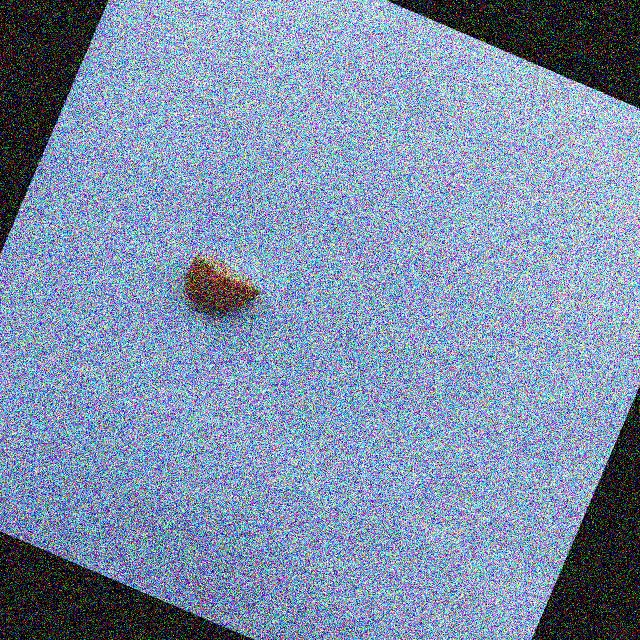grade4: (167, 243, 276, 336)
